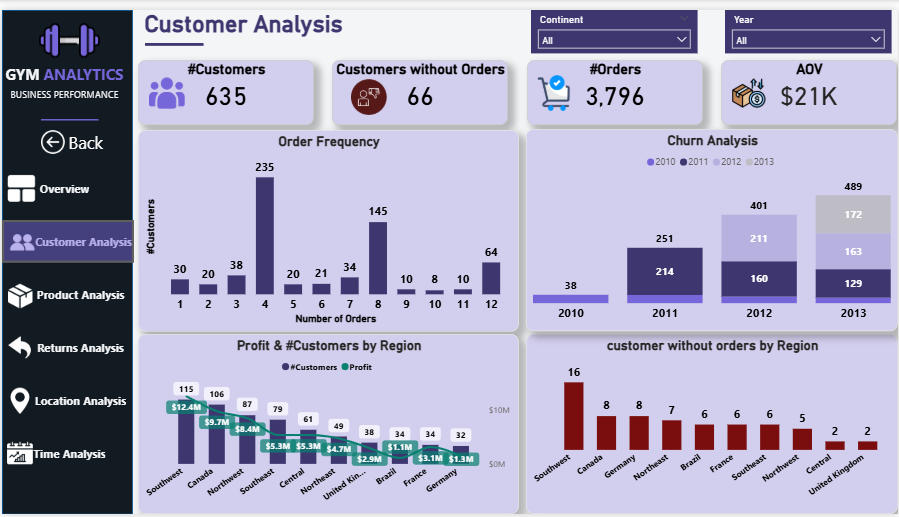

The page's visual inventory and layout, read from the dashboard file:
{"tool":"powerbi","page":{"name":"Customer Analysis","canvas":[1280,720],"ordinal":2},"visuals":[{"type":"slicer","fields":{"Values":["Date Table.Year"]},"box":[1032.4,0,238.2,61.8],"z":0},{"type":"slicer","fields":{"Values":["Customer.Continent"]},"box":[755.9,0,238.2,61.8],"z":1000},{"type":"shape","box":[0,0,186.8,720.6],"z":2000},{"type":"image","box":[2.9,0,186.8,86.8],"z":3000},{"type":"card","title":"#Customers","fields":{"Values":["Calculations.#Customers"]},"box":[194.1,72.1,251.5,92.6],"z":4000},{"type":"textbox","box":[0,72.1,194.1,52.9],"z":5000},{"type":"textbox","box":[7.4,107.4,173.5,35.3],"z":6000},{"type":"textbox","box":[198.4,0,591,70.9],"z":7000},{"type":"actionButton","box":[38.2,311.2,155.9,39.7],"z":8000},{"type":"image","box":[55.9,169.1,33.8,39.7],"z":9000},{"type":"textbox","box":[89.3,167.2,59.5,42.5],"z":10000},{"type":"image","box":[7.4,233.8,41.2,41.2],"z":11000},{"type":"image","box":[8.8,313.2,41.2,38.2],"z":12000},{"type":"actionButton","box":[33.8,462.9,155.9,39.7],"z":13000},{"type":"image","box":[8.8,386.8,35.3,42.6],"z":14000},{"type":"actionButton","box":[33.8,387.1,155.9,39.7],"z":15000},{"type":"actionButton","box":[19.1,614.7,155.9,39.7],"z":16000},{"type":"actionButton","box":[33.8,538.8,155.9,39.7],"z":17000},{"type":"image","box":[4.4,466.2,42.6,32.4],"z":18000},{"type":"image","box":[7.4,538.2,36.8,39.7],"z":19000},{"type":"actionButton","box":[11.8,235.3,155.9,39.7],"z":20000},{"type":"shape","box":[55.9,142.6,82.4,27.9],"z":21000},{"type":"image","box":[7.4,611.8,36.8,42.6],"z":22000},{"type":"actionButton","box":[0,300.5,188.5,60.9],"z":23000},{"type":"actionButton","box":[194.1,311.8,186.8,61.8],"z":24000},{"type":"actionButton","box":[0,376.5,186.8,61.8],"z":25000},{"type":"actionButton","box":[1.5,451.5,186.8,61.8],"z":26000},{"type":"actionButton","box":[0,527.9,186.8,61.8],"z":27000},{"type":"actionButton","box":[0,604.4,186.8,61.8],"z":28000},{"type":"card","title":"#Orders","fields":{"Values":["Calculations.#Orders"]},"box":[749.3,72.1,251,92.6],"z":29000},{"type":"card","title":"Customers without Orders","fields":{"Values":["Calculations.customer without orders"]},"box":[471.7,72.1,251.5,92.6],"z":30000},{"type":"card","title":"AOV","fields":{"Values":["Calculations.AOV"]},"box":[1026.5,72.1,251,92.6],"z":31000},{"type":"clusteredColumnChart","title":"Order Frequency","fields":{"Y":["Calculations.#Customers"],"Category":["Customer.no.of order"]},"box":[194.2,171.5,544.3,287.7],"z":32000},{"type":"lineStackedColumnComboChart","title":"Profit & #Customers by Region","fields":{"Y":["Calculations.#Customers"],"Y2":["Calculations.Profit"],"Category":["Customer.Region"]},"box":[194.2,463.5,544.3,256.5],"z":33000},{"type":"clusteredColumnChart","title":"customer without orders by Region","fields":{"Category":["Customer.Region"],"Y":["Calculations.customer without orders"]},"box":[748.3,463.5,531.5,256.5],"z":34000},{"type":"columnChart","title":"Churn Analysis","fields":{"Category":["Date Table.Year"],"Y":["Calculations.#Customers"],"Series":["Customer.first customer year"]},"box":[748.3,170.1,531.5,289.1],"z":35000},{"type":"actionButton","box":[0,225,186.8,61.8],"z":36000},{"type":"image","box":[210.3,86.8,51.5,63.2],"z":37000},{"type":"image","box":[498.5,92.6,51.5,63.2],"z":38000},{"type":"image","box":[763.2,86.8,51.5,63.2],"z":39000},{"type":"image","box":[1041.2,86.8,51.5,63.2],"z":40000},{"type":"shape","box":[204.1,35.4,83.6,26.9],"z":41000},{"type":"actionButton","box":[48.2,167.2,100.6,42.5],"z":42000}]}

Visuals, with their boxes in screenshot pixels (x1, y1, x2, y2), scaled from the page's 1280x720 canvas onto the 899x517 screenshot:
slicer - Date Table.Year: box(725, 0, 892, 44)
slicer - Customer.Continent: box(531, 0, 698, 44)
shape: box(0, 0, 131, 516)
image: box(2, 0, 133, 62)
"#Customers" card: box(136, 52, 313, 118)
textbox: box(0, 52, 136, 90)
textbox: box(5, 77, 127, 102)
textbox: box(139, 0, 554, 51)
actionButton: box(27, 223, 136, 252)
image: box(39, 121, 63, 150)
textbox: box(63, 120, 105, 151)
image: box(5, 168, 34, 197)
image: box(6, 225, 35, 252)
actionButton: box(24, 332, 133, 361)
image: box(6, 278, 31, 308)
actionButton: box(24, 278, 133, 306)
actionButton: box(13, 441, 123, 470)
actionButton: box(24, 387, 133, 415)
image: box(3, 335, 33, 358)
image: box(5, 386, 31, 415)
actionButton: box(8, 169, 118, 197)
shape: box(39, 102, 97, 122)
image: box(5, 439, 31, 470)
actionButton: box(0, 216, 132, 260)
actionButton: box(136, 224, 268, 268)
actionButton: box(0, 270, 131, 315)
actionButton: box(1, 324, 132, 369)
actionButton: box(0, 379, 131, 423)
actionButton: box(0, 434, 131, 478)
"#Orders" card: box(526, 52, 703, 118)
"Customers without Orders" card: box(331, 52, 508, 118)
"AOV" card: box(721, 52, 897, 118)
"Order Frequency" clusteredColumnChart: box(136, 123, 519, 330)
"Profit & #Customers by Region" lineStackedColumnComboChart: box(136, 333, 519, 516)
"customer without orders by Region" clusteredColumnChart: box(526, 333, 898, 516)
"Churn Analysis" columnChart: box(526, 122, 898, 330)
actionButton: box(0, 162, 131, 206)
image: box(148, 62, 184, 108)
image: box(350, 66, 386, 112)
image: box(536, 62, 572, 108)
image: box(731, 62, 767, 108)
shape: box(143, 25, 202, 45)
actionButton: box(34, 120, 105, 151)
